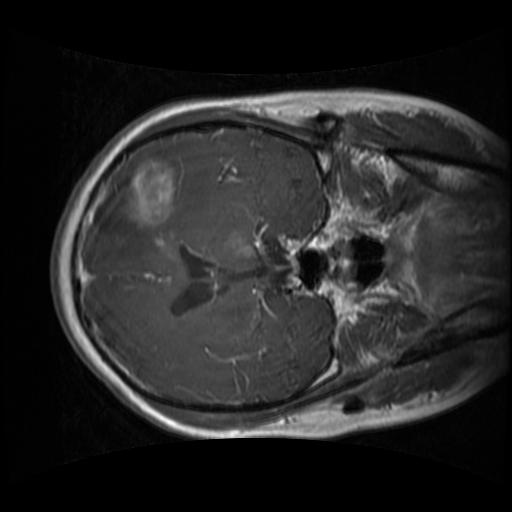glioma: (93, 147, 181, 241)
